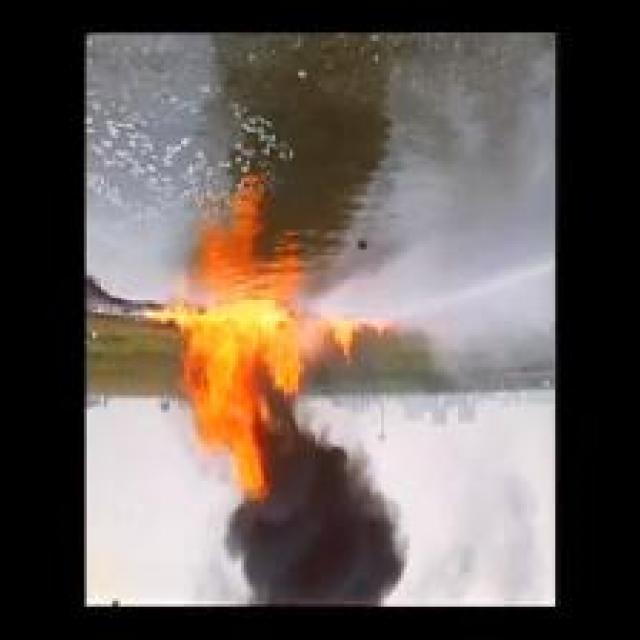Fire: (141, 300, 393, 494)
